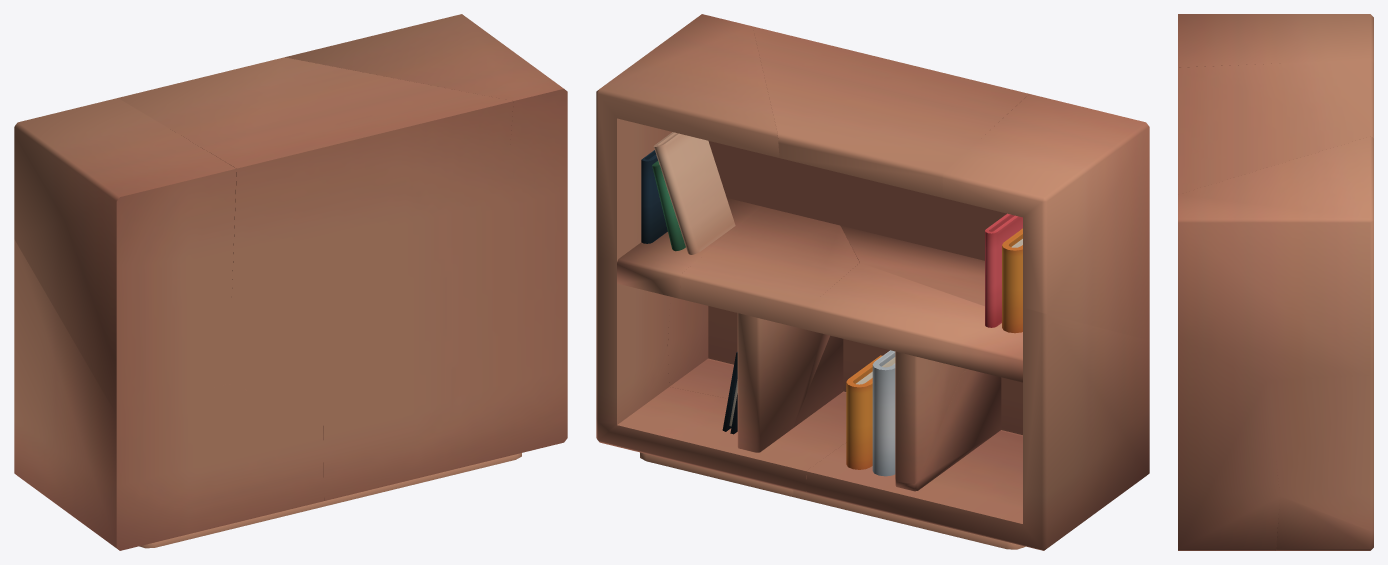
File: Shelves3.fbx
3 renders of one model, left to right at view 1: azimuth 30°, elevation 25°; view 2: azimuth 150°, elevation 25°; view 3: azimuth 270°, elevation 25°, orthographic. The views are drawn at different scales.
Parts seen in each view (by area): view 1: BookShelves1.002_cell.017, BookShelves1.002_cell.019, BookShelves1.002_cell.015, BookShelves1.002_cell.021, BookShelves1.002_cell.018, BookShelves1.001_cell.007, BookShelves1.001_cell.009; view 2: BookShelves1.002_cell.015, BookShelves1.002_cell.017, BookShelves1.002_cell.019, BookShelves1.002_cell.018, BookShelves1.003_cell.014, BookShelves1.003_cell.013, BookShelves1.002_cell.020, BookShelves1.002_cell.021, BookShelves1.002_cell.016, Books.065, BookShelves1.003_cell.016, BookShelves1.003_cell.018 (+11 smaller); view 3: BookShelves1.002_cell.018, BookShelves1.002_cell.017, BookShelves1.002_cell.021, BookShelves1.002_cell.016, BookShelves1.002_cell.019, BookShelves1.002_cell.020.
Part boxes in pixels (<box>): BookShelves1.002_cell.017: <box>118,57,513,415</box>; BookShelves1.002_cell.019: <box>14,98,236,414</box>; BookShelves1.002_cell.015: <box>14,239,323,550</box>; BookShelves1.002_cell.021: <box>323,212,567,500</box>; BookShelves1.002_cell.018: <box>285,14,567,231</box>; BookShelves1.001_cell.007: <box>139,497,342,548</box>; BookShelves1.001_cell.009: <box>342,453,521,501</box>; BookShelves1.002_cell.015: <box>806,307,1149,550</box>; BookShelves1.002_cell.017: <box>752,26,1028,260</box>; BookShelves1.002_cell.019: <box>942,94,1149,340</box>; BookShelves1.002_cell.018: <box>596,14,779,261</box>; BookShelves1.003_cell.014: <box>680,206,859,452</box>; BookShelves1.003_cell.013: <box>808,263,1022,483</box>; BookShelves1.002_cell.020: <box>596,347,846,493</box>; BookShelves1.002_cell.021: <box>667,170,889,421</box>; BookShelves1.002_cell.016: <box>596,254,670,422</box>; Books.065: <box>653,132,735,254</box>; BookShelves1.003_cell.016: <box>840,225,984,372</box>; BookShelves1.003_cell.018: <box>895,369,1001,491</box>; BookShelves1.002_cell.018: <box>1178,136,1373,381</box>; BookShelves1.002_cell.017: <box>1178,60,1373,194</box>; BookShelves1.002_cell.021: <box>1178,337,1279,550</box>; BookShelves1.002_cell.016: <box>1267,374,1373,530</box>; BookShelves1.002_cell.019: <box>1178,14,1373,67</box>; BookShelves1.002_cell.020: <box>1275,492,1373,550</box>.
Bounding box in the file's own units: 0.6103 × 1.53 × 1.18.
